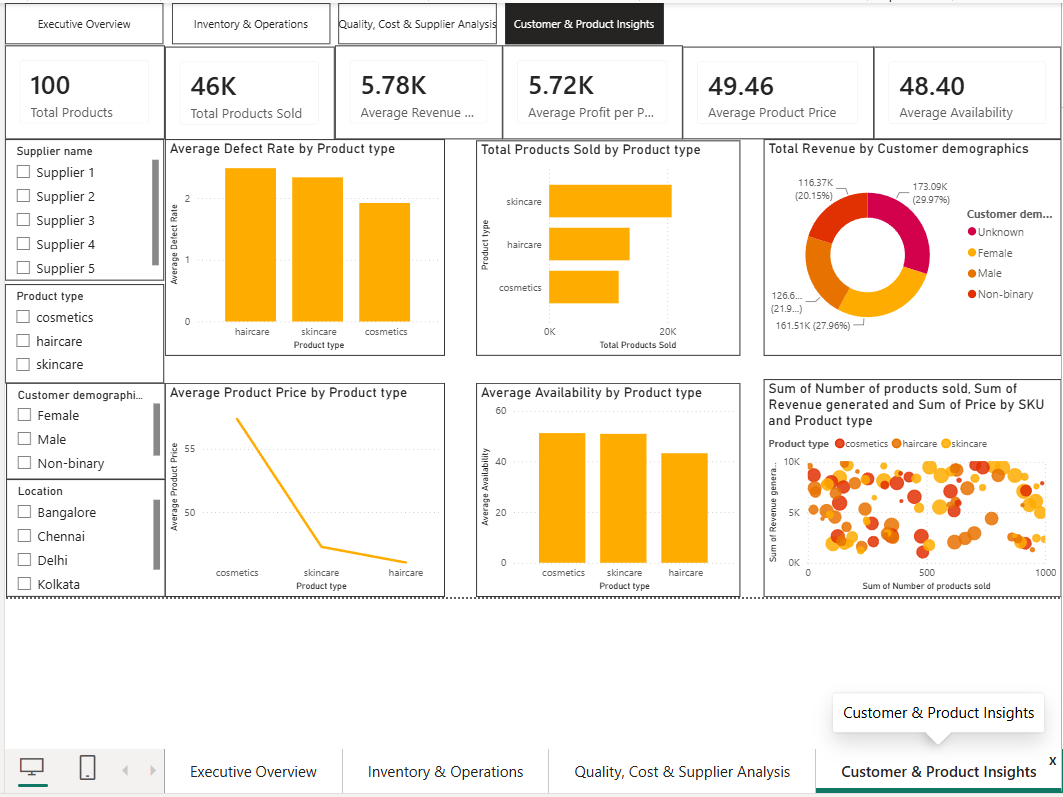

Layout of this report page (visuals, bound fields, positions):
{"tool":"powerbi","page":{"name":"Customer & Product Insights","canvas":[1280,720],"ordinal":3},"visuals":[{"type":"cardVisual","fields":{"Data":["Fact_supplychain.Total Products"]},"box":[0,86.4,177,94.7],"z":0},{"type":"cardVisual","fields":{"Data":["Fact_supplychain.Total Products Sold"]},"box":[177,87.8,205.8,93.3],"z":1000},{"type":"cardVisual","fields":{"Data":["Fact_supplychain.Average Revenue per Product"]},"box":[382.8,87.8,219.6,93.3],"z":2000},{"type":"cardVisual","fields":{"Data":["Fact_supplychain.Average Profit per Product"]},"box":[602.4,87.8,218.2,93.3],"z":3000},{"type":"cardVisual","fields":{"Data":["Fact_supplychain.Average Product Price"]},"box":[820.6,87.8,231.9,93.3],"z":4000},{"type":"cardVisual","fields":{"Data":["Fact_supplychain.Average Availability"]},"box":[1052.5,87.8,227.8,93.3],"z":5000},{"type":"slicer","fields":{"Values":["Fact_supplychain.Supplier name"]},"box":[1137.6,0,142.7,68.6],"z":6000},{"type":"slicer","fields":{"Values":["Fact_supplychain.Product type"]},"box":[1011.3,0,126.2,68.6],"z":7000},{"type":"slicer","fields":{"Values":["Fact_supplychain.Customer demographics"]},"box":[915.3,0,96.1,68.6],"z":8000},{"type":"slicer","fields":{"Values":["Fact_supplychain.Location"]},"box":[809.6,0,105.7,68.6],"z":9000},{"type":"clusteredColumnChart","fields":{"Category":["Fact_supplychain.Product type"],"Y":["Fact_supplychain.Average Defect Rate"]},"box":[0,193.5,304.6,262.1],"z":10000},{"type":"lineChart","fields":{"Category":["Fact_supplychain.Product type"],"Y":["Fact_supplychain.Average Product Price"]},"box":[0,462.4,304.6,258],"z":11000},{"type":"clusteredBarChart","title":"Products Sold by Product Type","fields":{"Category":["Fact_supplychain.Product type"],"Y":["Fact_supplychain.Total Products Sold"]},"box":[319.7,194.9,297.8,260.7],"z":12000},{"type":"clusteredColumnChart","title":"Product Availability by Product Type","fields":{"Category":["Fact_supplychain.Product type"],"Y":["Fact_supplychain.Average Availability"]},"box":[319.7,462.4,297.8,258],"z":13000},{"type":"donutChart","title":"Revenue by Customer demographics","fields":{"Category":["Fact_supplychain.Customer demographics"],"Y":["Fact_supplychain.Total Revenue"]},"box":[629.8,194.9,317,262.1],"z":14000},{"type":"scatterChart","title":"Product Sales vs Revenue by SKU","fields":{"Series":["Fact_supplychain.Product type"],"Category":["Fact_supplychain.SKU"],"X":["Sum(Fact_supplychain.Number of products sold)"],"Y":["Sum(Fact_supplychain.Revenue generated)"],"Size":["Sum(Fact_supplychain.Price)"]},"box":[629.8,462.4,317,258],"z":15000},{"type":"pageNavigator","box":[963.3,671,317,49.4],"z":16000},{"type":"textbox","box":[963.3,462.4,317,197.6],"z":16001},{"type":"textbox","box":[0,0,800,86.4],"z":16002},{"type":"clusteredColumnChart","title":"Revenue by Product type","fields":{"Category":["Fact_supplychain.Product type"],"Y":["Fact_supplychain.Total Revenue"]},"box":[963.3,194.9,317,262.1],"z":16003}]}

Visuals, with their boxes on the page's 1280x720 design canvas (x1, y1, x2, y2). These are canvas units, not pixel positions in the 1063x797 screenshot, which may show the page scaled, cropped or inside an application window:
cardVisual - Fact_supplychain.Total Products: l=0, t=86, r=177, b=181
cardVisual - Fact_supplychain.Total Products Sold: l=177, t=88, r=383, b=181
cardVisual - Fact_supplychain.Average Revenue per Product: l=383, t=88, r=602, b=181
cardVisual - Fact_supplychain.Average Profit per Product: l=602, t=88, r=821, b=181
cardVisual - Fact_supplychain.Average Product Price: l=821, t=88, r=1052, b=181
cardVisual - Fact_supplychain.Average Availability: l=1052, t=88, r=1280, b=181
slicer - Fact_supplychain.Supplier name: l=1138, t=0, r=1280, b=69
slicer - Fact_supplychain.Product type: l=1011, t=0, r=1138, b=69
slicer - Fact_supplychain.Customer demographics: l=915, t=0, r=1011, b=69
slicer - Fact_supplychain.Location: l=810, t=0, r=915, b=69
clusteredColumnChart - Fact_supplychain.Product type x Fact_supplychain.Average Defect Rate: l=0, t=194, r=305, b=456
lineChart - Fact_supplychain.Product type x Fact_supplychain.Average Product Price: l=0, t=462, r=305, b=720
"Products Sold by Product Type" clusteredBarChart: l=320, t=195, r=618, b=456
"Product Availability by Product Type" clusteredColumnChart: l=320, t=462, r=618, b=720
"Revenue by Customer demographics" donutChart: l=630, t=195, r=947, b=457
"Product Sales vs Revenue by SKU" scatterChart: l=630, t=462, r=947, b=720
pageNavigator: l=963, t=671, r=1280, b=720
textbox: l=963, t=462, r=1280, b=660
textbox: l=0, t=0, r=800, b=86
"Revenue by Product type" clusteredColumnChart: l=963, t=195, r=1280, b=457
